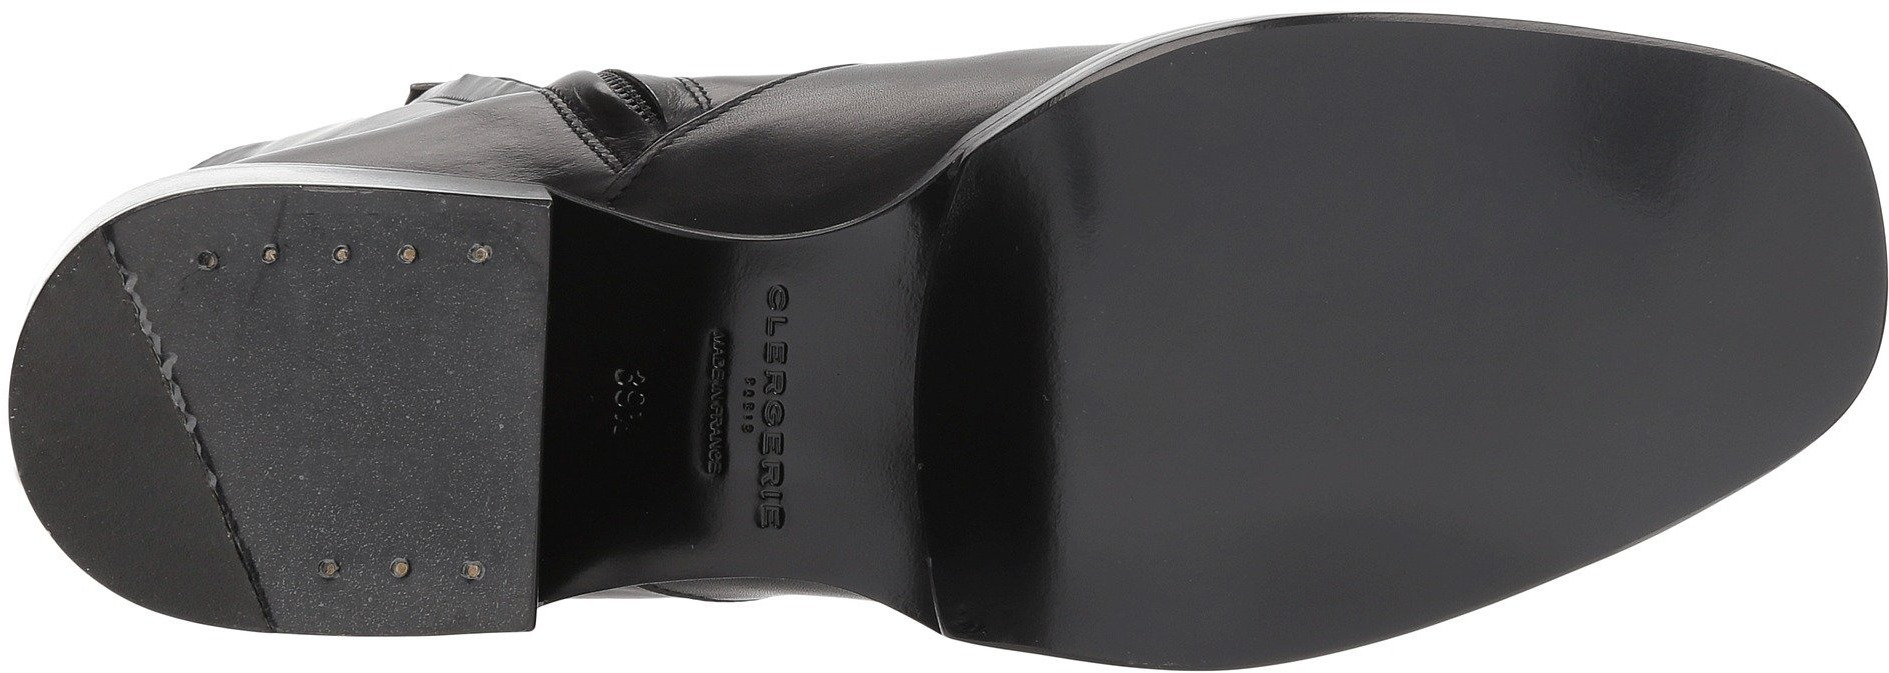circle: (375, 525, 487, 621), (252, 201, 361, 297)
other: (1279, 47, 1590, 361), (975, 160, 1269, 451), (1597, 134, 1859, 405), (219, 303, 458, 533), (1278, 365, 1497, 594), (1036, 454, 1220, 659), (1508, 411, 1642, 549), (27, 392, 163, 518)
